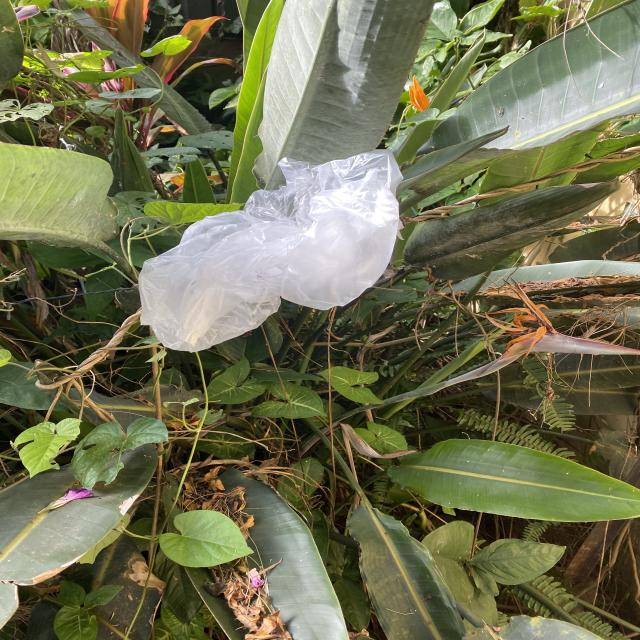cloth: (136, 144, 402, 356)
